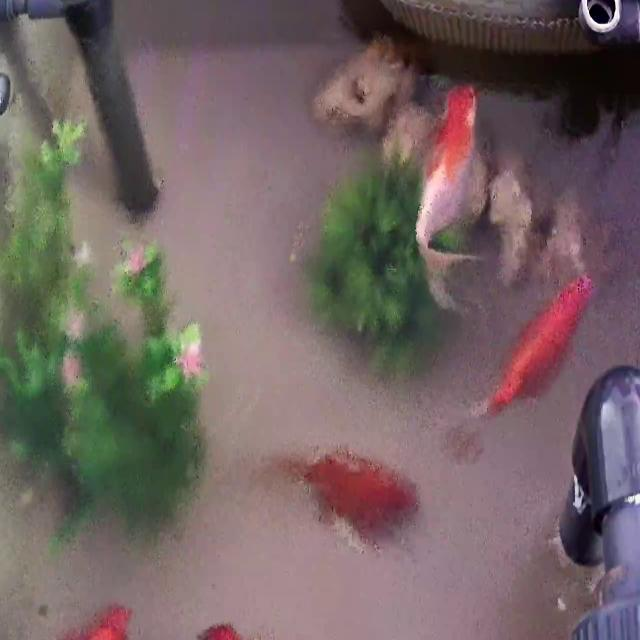fish: (415, 82, 485, 312), (483, 273, 599, 411), (287, 452, 403, 540)
